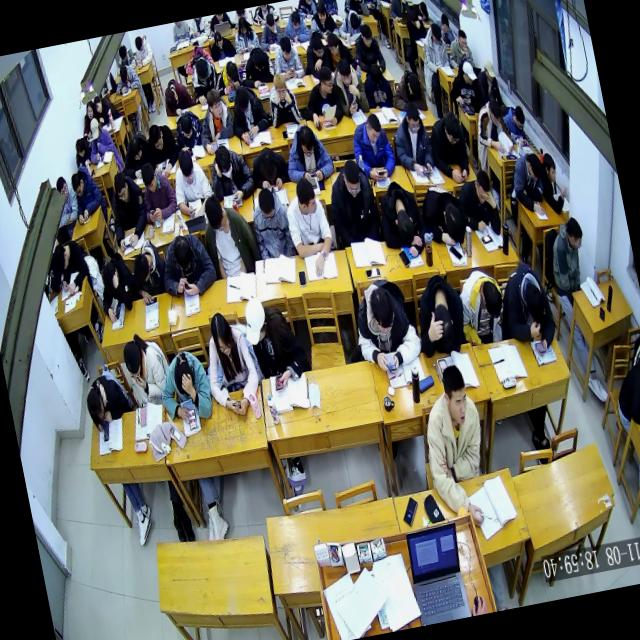bow: (493, 258, 562, 364), (409, 272, 473, 362), (153, 344, 217, 430), (372, 175, 429, 262), (154, 227, 220, 302), (416, 180, 471, 253), (80, 368, 136, 435), (205, 140, 258, 208), (124, 234, 172, 308), (224, 81, 274, 148), (508, 150, 551, 220), (472, 96, 516, 160), (535, 149, 573, 217), (142, 120, 182, 182), (248, 144, 292, 196), (386, 66, 429, 116), (235, 43, 278, 91), (118, 130, 156, 182), (170, 107, 208, 157), (320, 28, 358, 75), (300, 29, 332, 82), (160, 76, 196, 120), (210, 60, 244, 100), (182, 42, 216, 76), (110, 62, 142, 96), (336, 7, 366, 41), (404, 6, 428, 44), (72, 134, 96, 170), (112, 44, 138, 76), (411, 0, 430, 23)
down: (367, 284, 400, 339), (428, 302, 460, 356), (208, 310, 238, 361), (521, 281, 550, 327), (202, 192, 230, 236), (478, 277, 506, 321), (338, 158, 366, 201), (170, 233, 198, 276), (171, 358, 199, 398), (121, 339, 146, 382), (84, 388, 108, 428), (256, 145, 281, 183), (440, 109, 464, 148), (175, 148, 198, 188), (362, 110, 386, 148), (256, 186, 280, 224), (213, 144, 236, 182), (472, 168, 495, 206), (296, 122, 318, 160), (564, 215, 586, 253), (131, 251, 154, 287), (100, 260, 123, 294), (111, 170, 132, 207), (139, 162, 160, 196), (403, 102, 424, 136), (336, 56, 356, 90), (233, 85, 253, 117), (146, 122, 166, 154), (52, 243, 72, 274), (404, 70, 424, 101), (526, 152, 545, 184), (272, 72, 290, 105), (226, 394, 250, 418), (486, 96, 504, 128), (278, 34, 296, 65), (309, 32, 327, 62), (127, 134, 145, 164), (193, 56, 212, 84), (368, 61, 386, 90), (178, 114, 196, 142), (461, 60, 479, 88), (358, 24, 376, 51), (250, 48, 268, 74), (512, 105, 528, 134), (70, 171, 86, 199), (428, 20, 444, 48), (88, 116, 104, 143), (223, 59, 240, 84), (482, 58, 498, 84), (141, 289, 161, 308), (314, 1, 330, 24), (456, 28, 470, 54), (264, 12, 278, 36), (74, 138, 88, 160), (212, 30, 226, 50), (348, 14, 362, 34), (92, 95, 105, 116), (237, 15, 250, 36), (118, 66, 131, 86), (409, 9, 422, 29), (118, 44, 130, 64), (133, 34, 145, 53), (418, 0, 429, 18)
lookup: (440, 364, 476, 430), (204, 86, 226, 122), (541, 150, 559, 186), (85, 100, 96, 121)
sit: (410, 360, 501, 536), (345, 271, 427, 378), (195, 306, 268, 422), (238, 289, 311, 397), (278, 172, 340, 284), (196, 187, 264, 283), (321, 154, 385, 252), (453, 264, 512, 352), (118, 330, 172, 412), (542, 215, 594, 298), (103, 168, 153, 254), (387, 100, 438, 184), (278, 120, 338, 190), (166, 144, 218, 223), (424, 108, 474, 190), (247, 184, 297, 266), (346, 110, 398, 187), (92, 248, 143, 326), (454, 165, 505, 242), (190, 84, 240, 158), (299, 62, 346, 133), (135, 158, 180, 226), (329, 52, 372, 121), (50, 236, 94, 298), (67, 162, 106, 226), (262, 70, 302, 132), (608, 358, 640, 431), (442, 59, 486, 110), (349, 21, 388, 78), (185, 53, 223, 109), (268, 32, 306, 85), (359, 58, 396, 112), (418, 22, 454, 76), (82, 114, 118, 166), (305, 0, 341, 44), (52, 174, 82, 226), (473, 56, 503, 106), (444, 28, 476, 73), (230, 14, 262, 56), (255, 11, 286, 54), (502, 104, 531, 149), (280, 8, 312, 46), (207, 27, 238, 64), (92, 91, 121, 128), (132, 33, 156, 70), (385, 0, 412, 22)
